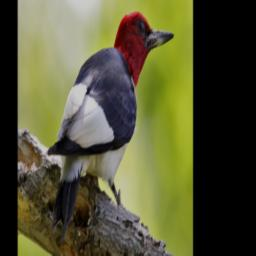Woodpecker: (47, 13, 173, 241)
